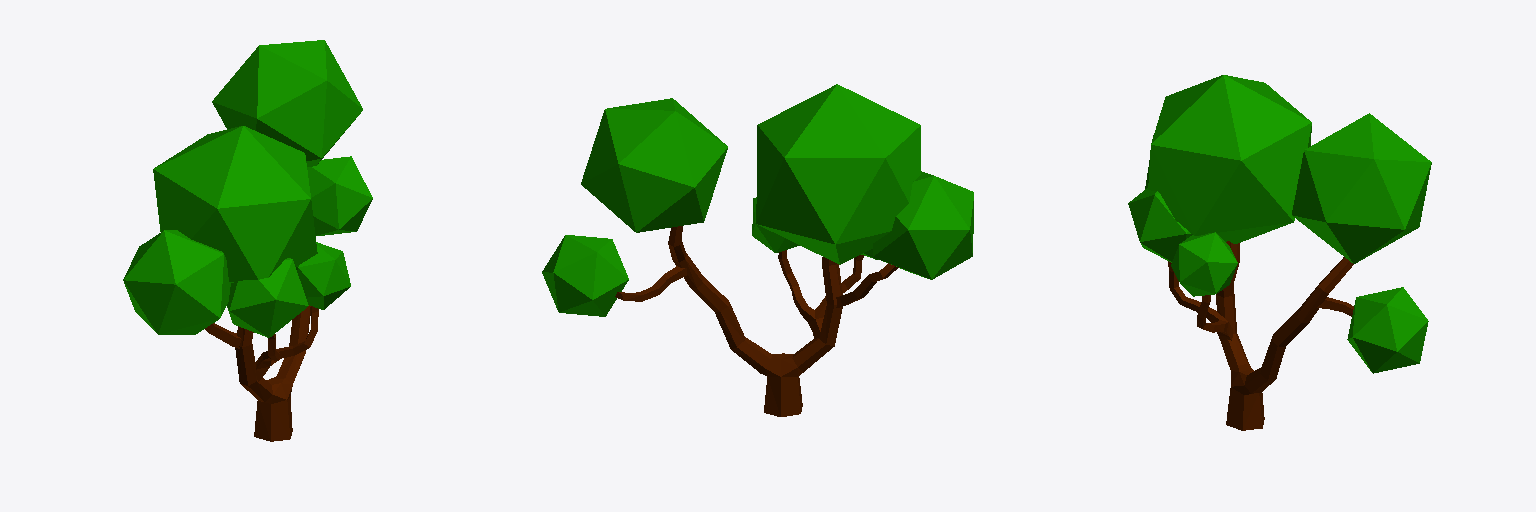
File: tree-2.obj
The picture shows the model from 3 angles: view 1: azimuth 30°, elevation 25°; view 2: azimuth 150°, elevation 25°; view 3: azimuth 270°, elevation 25°; orthographic projection.
Visible parts, largest first — view 1: Tree_lp_11; view 2: Tree_lp_11; view 3: Tree_lp_11.
Boxes of the visible parts, <box> form: Tree_lp_11: <box>123,40,372,441</box>; Tree_lp_11: <box>542,84,973,416</box>; Tree_lp_11: <box>1128,75,1431,430</box>.
Size of the model in its own units: 27.98 by 26.54 by 21.98.